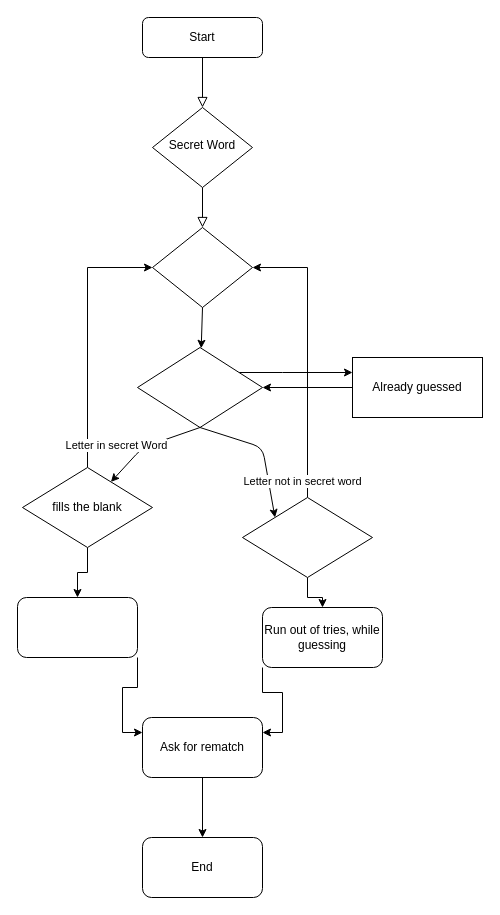
This 500x915 diagram has some shape labels left out. The centre of each missing label's shape, as x and y in pixels:
"Ask for letter" goes at [199,387].
"Draw one part of the gallow" goes at [307,537].
"Every blank space is correctly guessed Player Wins" goes at [77,627].
"Show drawing and blanks" goes at [202,267].
